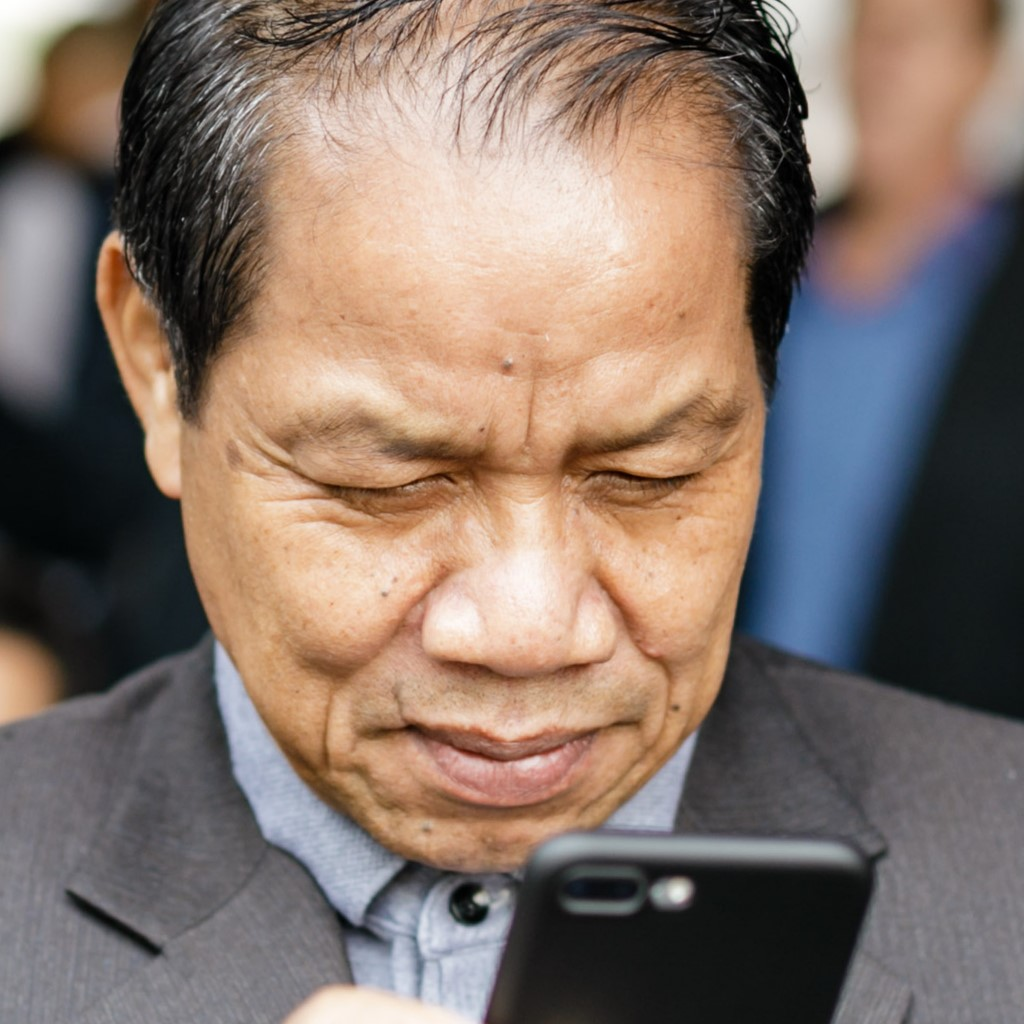sin_mascara: (173, 13, 737, 875)
